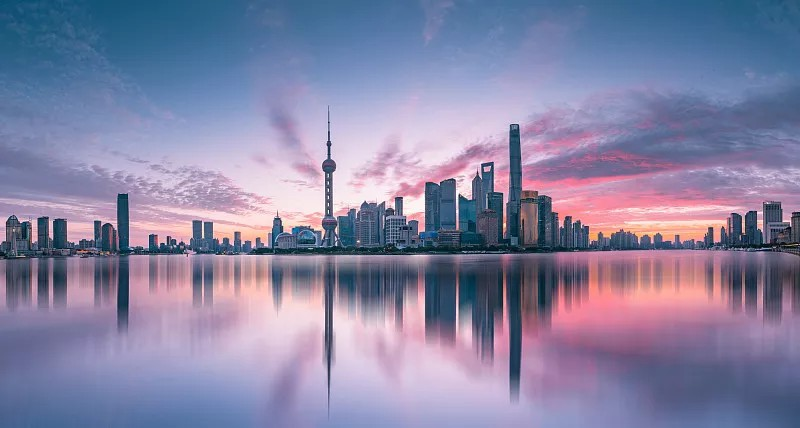Oriental: (319, 105, 345, 246)
